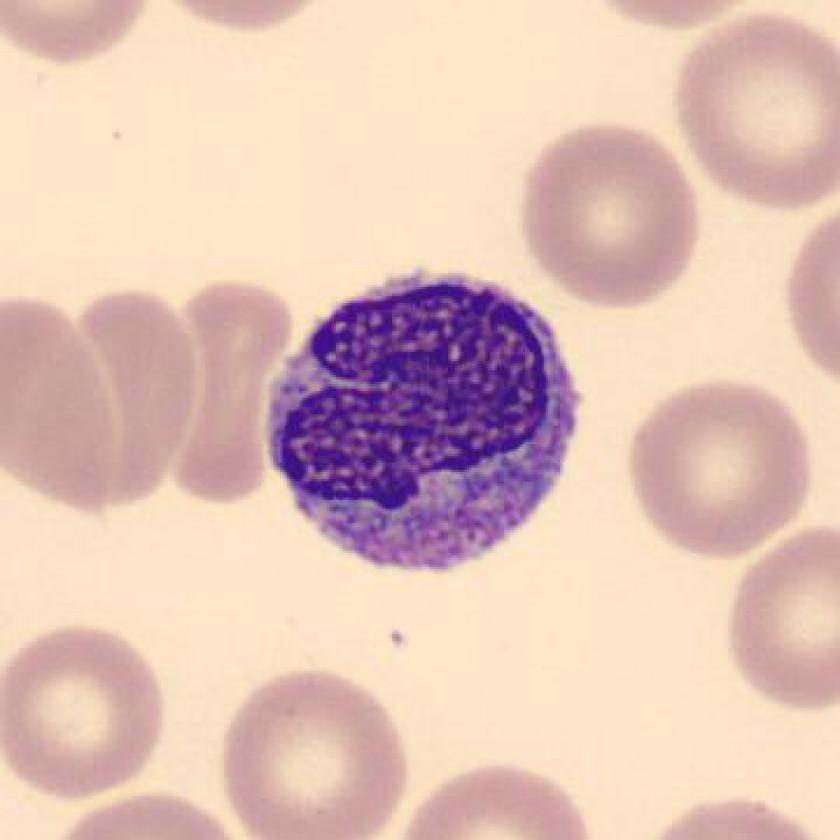monocyte: (251, 247, 603, 594)
